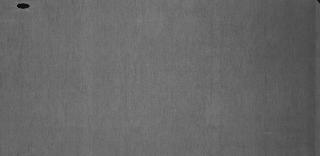punching hole: (14, 2, 32, 10)
